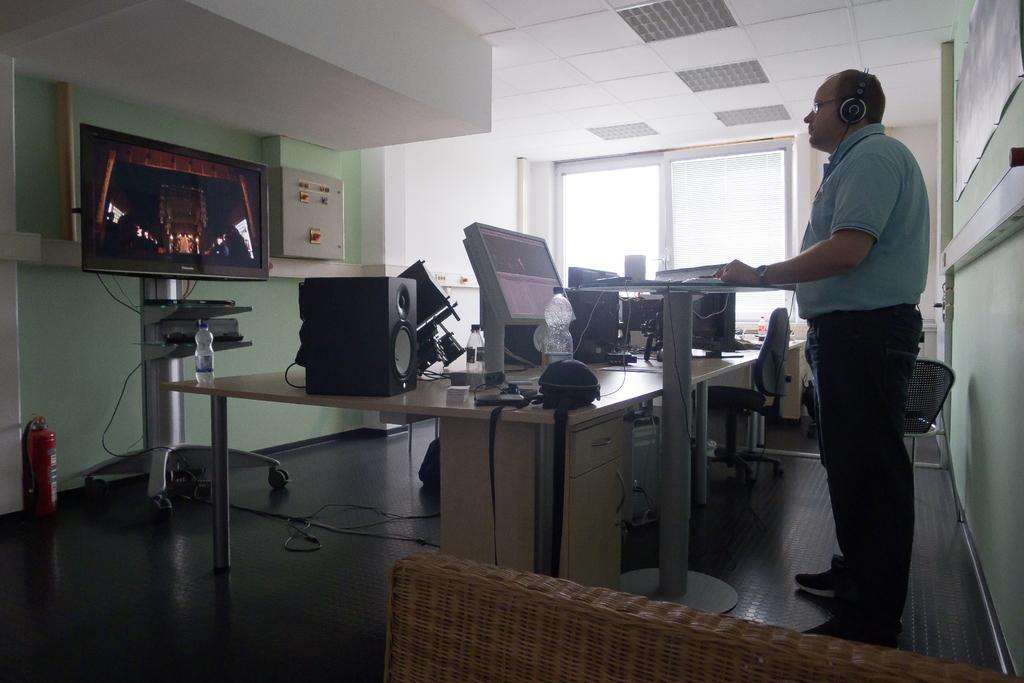Chair: (685, 305, 788, 492), (902, 362, 956, 471)
